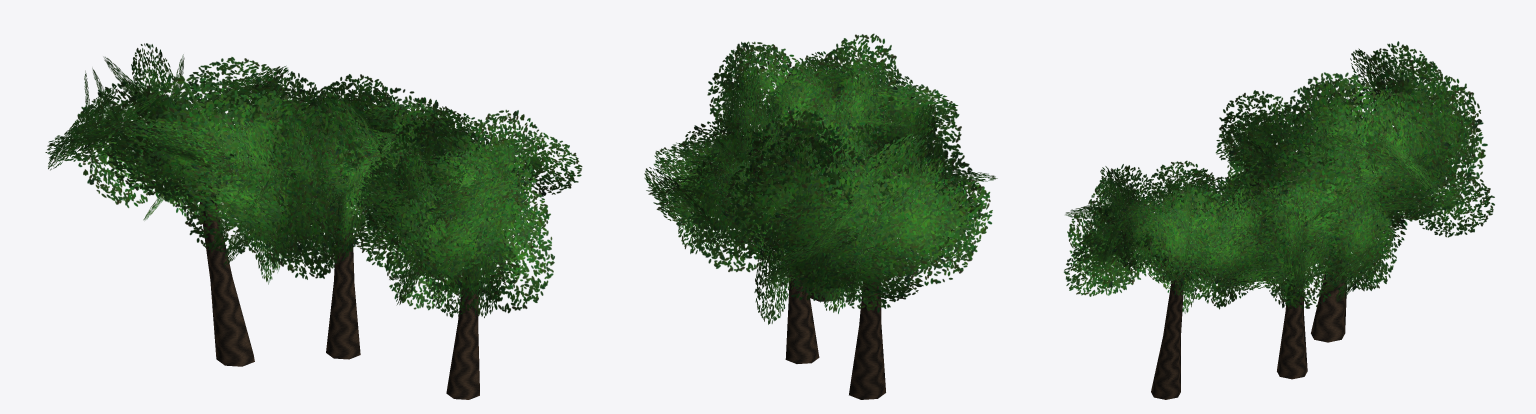
The model's file is clump_c.glb.
The picture shows the model from 3 angles, left to right: view 1: azimuth 30°, elevation 25°; view 2: azimuth 150°, elevation 25°; view 3: azimuth 270°, elevation 25°; orthographic projection. The views are drawn at different scales.
Parts seen in each view (by area): view 1: clump_c; view 2: clump_c; view 3: clump_c.
Boxes of the visible parts, <box> form: clump_c: <box>45,43,582,399</box>; clump_c: <box>644,33,997,399</box>; clump_c: <box>1064,41,1494,399</box>.
Size of the model in its own units: 2.26 by 1.51 by 2.39.
Materials: 2 (2 with a texture image).
